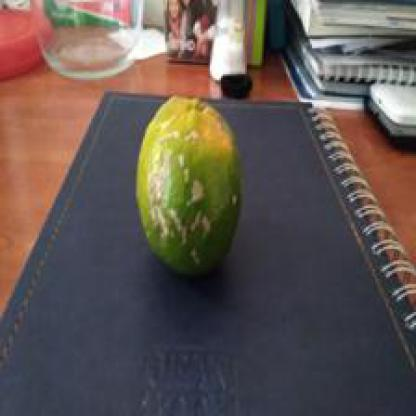orange_rotten: (121, 85, 286, 303)
